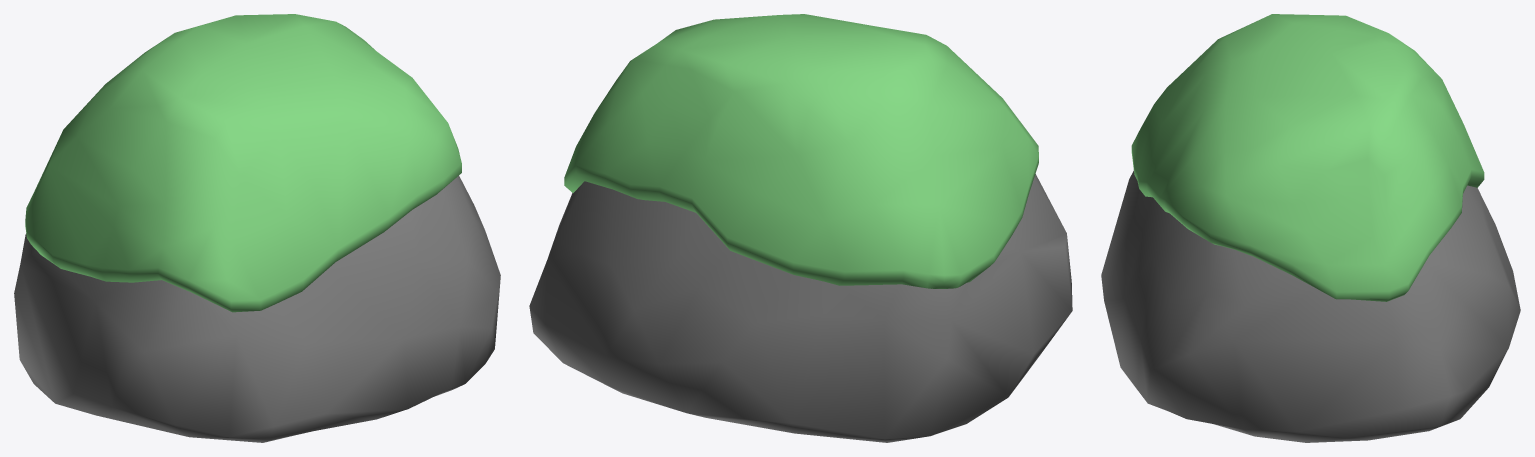
The model's file is Stone1.fbx.
3 views of the same model, side by side, from view 1: azimuth 30°, elevation 25°; view 2: azimuth 150°, elevation 25°; view 3: azimuth 270°, elevation 25° (orthographic). The views are drawn at different scales.
Visible parts, largest first — view 1: 1moss, 1stone; view 2: 1moss, 1stone; view 3: 1moss, 1stone.
Boxes of the visible parts, <box> form: 1moss: <box>25,14,461,312</box>; 1stone: <box>14,176,500,442</box>; 1moss: <box>564,14,1038,288</box>; 1stone: <box>529,174,1072,442</box>; 1moss: <box>1131,14,1484,301</box>; 1stone: <box>1101,170,1520,442</box>.
Bounding box in the file's own units: 198 × 146 × 182.
